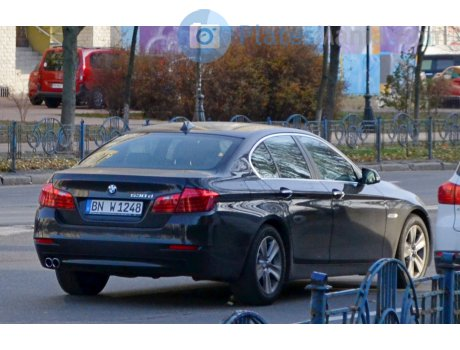License Plates: (81, 196, 146, 213)
